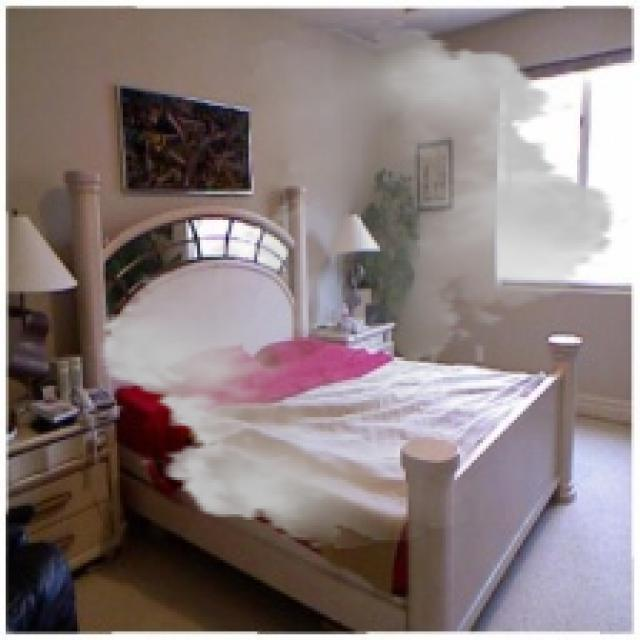Smoke: (83, 20, 632, 549)
